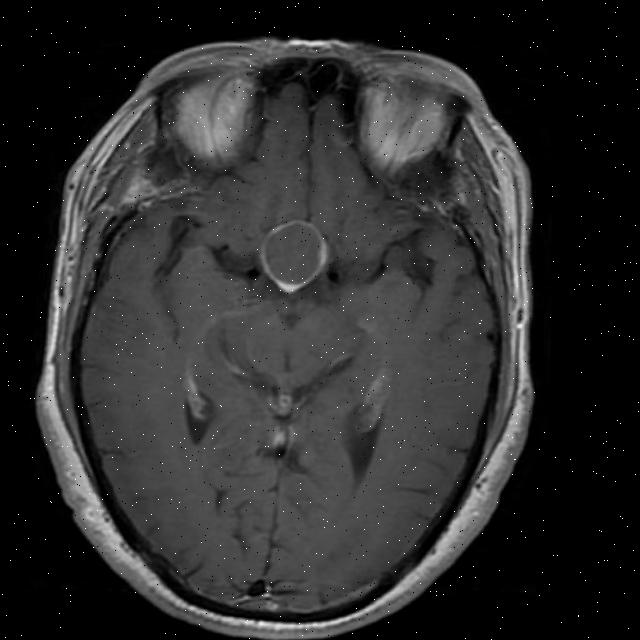Pituitary: (258, 220, 329, 295)
